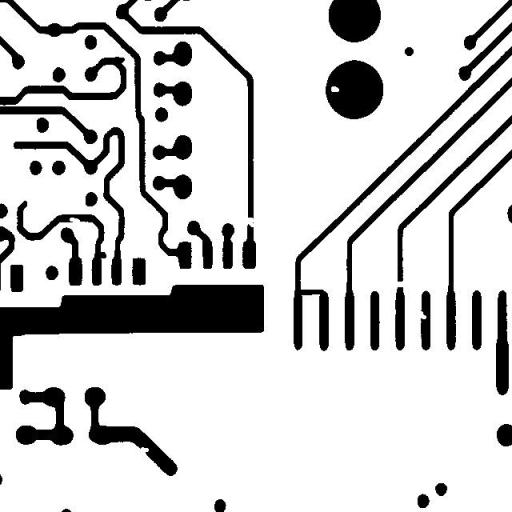copper: (428, 475, 454, 503), (397, 39, 421, 63)
mousebite: (411, 304, 434, 326), (133, 439, 156, 461), (62, 210, 87, 230)
open: (237, 210, 263, 234), (387, 273, 413, 294)
pin-hole: (324, 78, 346, 100)
short: (288, 281, 331, 302)
spur: (106, 49, 132, 72), (90, 244, 114, 266)
